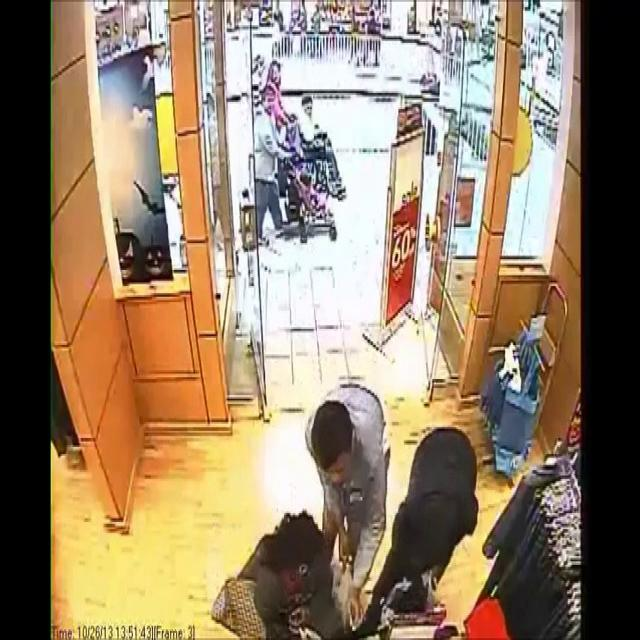Product: (390, 543, 430, 631)
normal: (227, 476, 333, 640), (282, 349, 380, 500)
shoplifting: (364, 418, 477, 640)
